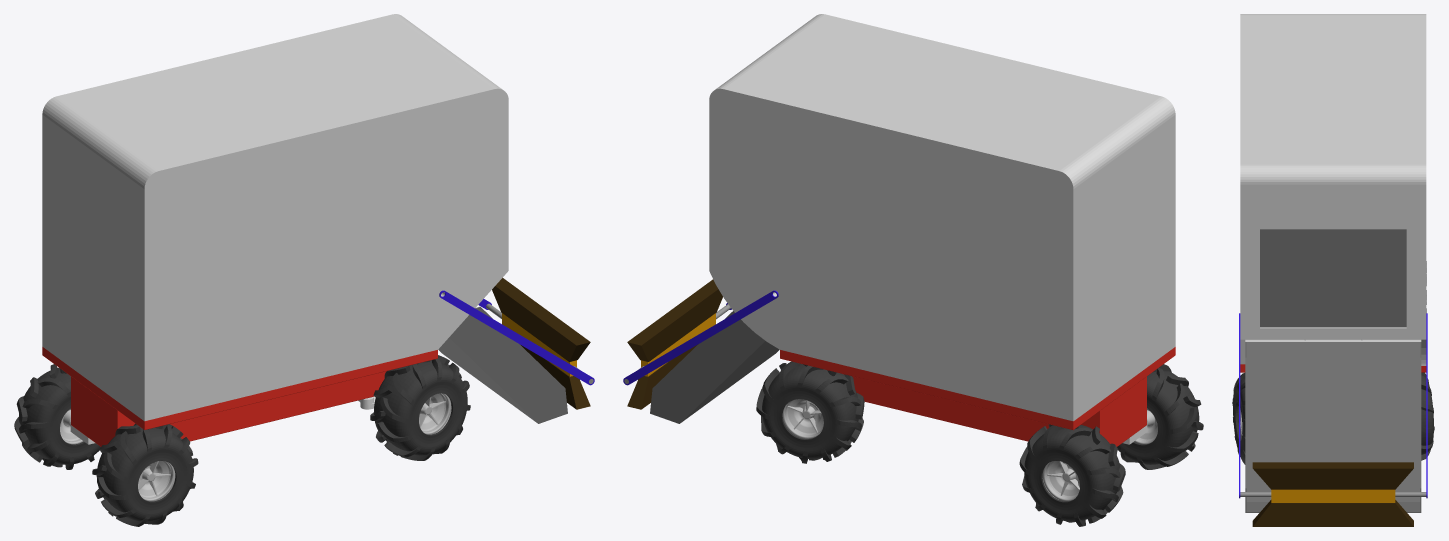
Rendered from Recogedor_basura.fbx.
3 renders of one model, left to right at view 1: azimuth 30°, elevation 25°; view 2: azimuth 150°, elevation 25°; view 3: azimuth 270°, elevation 25°, orthographic. The views are drawn at different scales.
Visible parts, largest first — view 1: RobotAssembly0 - Estructura-1, RobotAssembly0 - Frame-1, RobotAssembly0 - Tyre_only_2-2, RobotAssembly0 - Tyre_only_2-3, RobotAssembly0 - base-3, RobotAssembly0 - Tyre_only_2-1, RobotAssembly0 - Escobilla-1, RobotAssembly0 - arm-2; view 2: RobotAssembly0 - Estructura-1, RobotAssembly0 - Frame-1, RobotAssembly0 - Tyre_only_2-4, RobotAssembly0 - Tyre_only_2-1, RobotAssembly0 - base-3, RobotAssembly0 - Tyre_only_2-2, RobotAssembly0 - Escobilla-1, RobotAssembly0 - arm-1; view 3: RobotAssembly0 - Estructura-1, RobotAssembly0 - base-3, RobotAssembly0 - Escobilla-1, RobotAssembly0 - Tyre_only_2-4, RobotAssembly0 - Tyre_only_2-3, RobotAssembly0 - arm-1, RobotAssembly0 - arm-2.
Part boxes in pixels (x1,y1,x2,y2): RobotAssembly0 - Estructura-1: (42, 14, 508, 421); RobotAssembly0 - Frame-1: (42, 347, 437, 446); RobotAssembly0 - Tyre_only_2-2: (92, 423, 198, 526); RobotAssembly0 - Tyre_only_2-3: (370, 355, 470, 460); RobotAssembly0 - base-3: (438, 306, 567, 423); RobotAssembly0 - Tyre_only_2-1: (14, 364, 100, 469); RobotAssembly0 - Escobilla-1: (486, 277, 593, 409); RobotAssembly0 - arm-2: (439, 290, 594, 385); RobotAssembly0 - Estructura-1: (709, 14, 1175, 421); RobotAssembly0 - Frame-1: (780, 347, 1175, 446); RobotAssembly0 - Tyre_only_2-4: (756, 361, 864, 463); RobotAssembly0 - Tyre_only_2-1: (1019, 424, 1125, 526); RobotAssembly0 - base-3: (650, 311, 779, 423); RobotAssembly0 - Tyre_only_2-2: (1117, 364, 1203, 469); RobotAssembly0 - Escobilla-1: (624, 279, 730, 409); RobotAssembly0 - arm-1: (623, 290, 778, 385); RobotAssembly0 - Estructura-1: (1240, 14, 1426, 365); RobotAssembly0 - base-3: (1245, 342, 1421, 512); RobotAssembly0 - Escobilla-1: (1240, 462, 1426, 526); RobotAssembly0 - Tyre_only_2-4: (1421, 372, 1434, 460); RobotAssembly0 - Tyre_only_2-3: (1232, 373, 1245, 464); RobotAssembly0 - arm-1: (1426, 313, 1427, 498); RobotAssembly0 - arm-2: (1239, 313, 1240, 498).
Size of the model in its own units: 0.8143 by 1.46 by 2.07.
